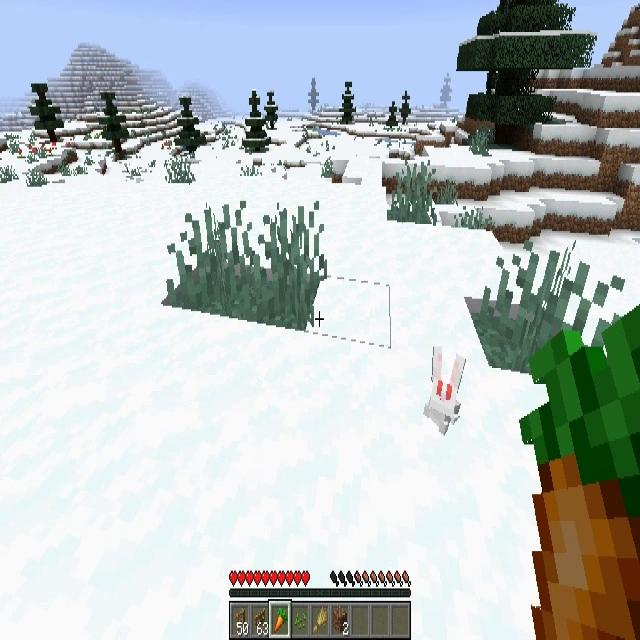rabbit: (422, 346, 466, 434)
